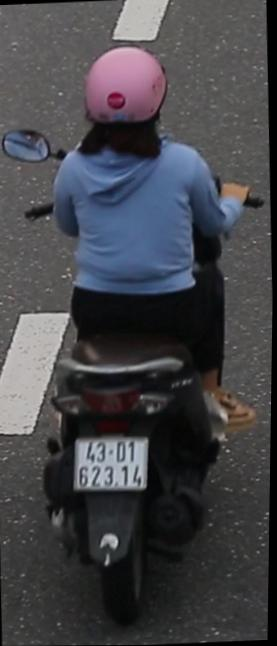LP: (71, 430, 155, 499)
helmet: (74, 41, 174, 166)
